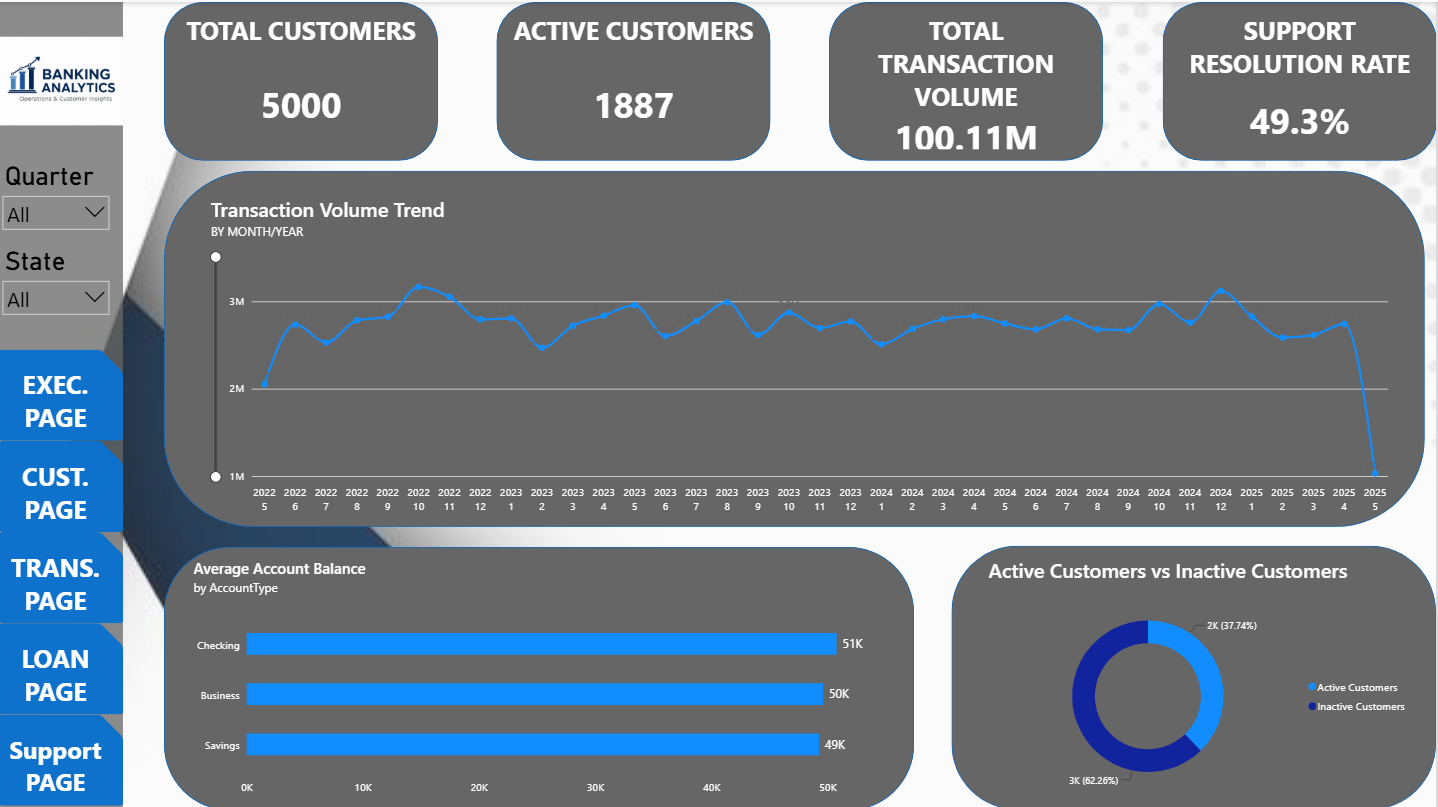

What the dashboard file says about the page in this screenshot:
{"tool":"powerbi","page":{"name":"EXEC","canvas":[1920,1080],"ordinal":0},"visuals":[{"type":"shape","box":[1272.9,727.1,647.1,352.9],"z":0},{"type":"shape","box":[220,728,1002,352],"z":1000},{"type":"shape","box":[220,225.7,1684.3,475.7],"z":2000},{"type":"shape","box":[664.7,0,366,212],"z":3000},{"type":"card","title":"ACTIVE CUSTOMERS","fields":{"Values":["Key_Measures.Active Customers"]},"box":[664,0,366.2,212.5],"z":4000},{"type":"shape","box":[1109.3,0,366,212],"z":5000},{"type":"shape","box":[1554,0,366,212],"z":6000},{"type":"shape","box":[0,0,165.7,1080],"z":7000},{"type":"slicer","fields":{"Values":["Accounts_Sheet.CreatedDate.Variation.Date Hierarchy.Quarter"]},"box":[0,212,152,184],"z":8000},{"type":"slicer","fields":{"Values":["customers_cleaned.State"]},"box":[0,326,152,184],"z":9000},{"type":"shape","box":[220,0,366,212],"z":10000},{"type":"card","title":"TOTAL CUSTOMERS","fields":{"Values":["Key_Measures.total_customers"]},"box":[220,0,366.2,212.5],"z":11000},{"type":"card","title":"TOTAL TRANSACTION VOLUME","fields":{"Values":["Key_Measures.total_transaction_amount"]},"box":[1108.8,0,366.2,212.5],"z":12000},{"type":"card","title":"SUPPORT RESOLUTION RATE","fields":{"Values":["Key_Measures.Support Resolution Rate"]},"box":[1553.8,0,366,212],"z":13000},{"type":"lineChart","title":"Transaction Volume Trend","fields":{"Category":["DATE.year","DATE.month"],"Y":["Key_Measures.total_transaction_amount"]},"box":[267.1,244.3,1605.7,457.1],"z":14000},{"type":"donutChart","title":"Active Customers vs Inactive Customers","fields":{"Y":["Key_Measures.Active Customers","Key_Measures.Inactive Customers"]},"box":[1305.7,727.1,598,352],"z":15000},{"type":"clusteredBarChart","fields":{"Category":["Accounts_Sheet.AccountType"],"Y":["Key_Measures.Average Account Balance"]},"box":[243.8,727.5,968.8,352.5],"z":16000},{"type":"image","box":[0,0,165.7,211.4],"z":17000},{"type":"actionButton","box":[0,464,166,122],"z":18000},{"type":"actionButton","box":[0,586,166,122],"z":19000},{"type":"actionButton","box":[0,708,166,122],"z":20000},{"type":"actionButton","box":[0,830,166,122],"z":21000},{"type":"actionButton","box":[0,952,166,122],"z":22000}]}

Visuals, with their boxes in screenshot pixels (x1, y1, x2, y2), scaled from the page's 1920x1080 canvas onto the 1438x807 screenshot:
shape: <region>953, 543, 1437, 806</region>
shape: <region>165, 544, 915, 806</region>
shape: <region>165, 169, 1426, 524</region>
shape: <region>498, 0, 772, 158</region>
"ACTIVE CUSTOMERS" card: <region>497, 0, 772, 159</region>
shape: <region>831, 0, 1105, 158</region>
shape: <region>1164, 0, 1437, 158</region>
shape: <region>0, 0, 124, 806</region>
slicer - Accounts_Sheet.CreatedDate.Variation.Date Hierarchy.Quarter: <region>0, 158, 114, 296</region>
slicer - customers_cleaned.State: <region>0, 244, 114, 381</region>
shape: <region>165, 0, 439, 158</region>
"TOTAL CUSTOMERS" card: <region>165, 0, 439, 159</region>
"TOTAL TRANSACTION VOLUME" card: <region>830, 0, 1105, 159</region>
"SUPPORT RESOLUTION RATE" card: <region>1164, 0, 1437, 158</region>
"Transaction Volume Trend" lineChart: <region>200, 183, 1403, 524</region>
"Active Customers vs Inactive Customers" donutChart: <region>978, 543, 1426, 806</region>
clusteredBarChart - Accounts_Sheet.AccountType x Key_Measures.Average Account Balance: <region>183, 544, 908, 806</region>
image: <region>0, 0, 124, 158</region>
actionButton: <region>0, 347, 124, 438</region>
actionButton: <region>0, 438, 124, 529</region>
actionButton: <region>0, 529, 124, 620</region>
actionButton: <region>0, 620, 124, 711</region>
actionButton: <region>0, 711, 124, 803</region>
